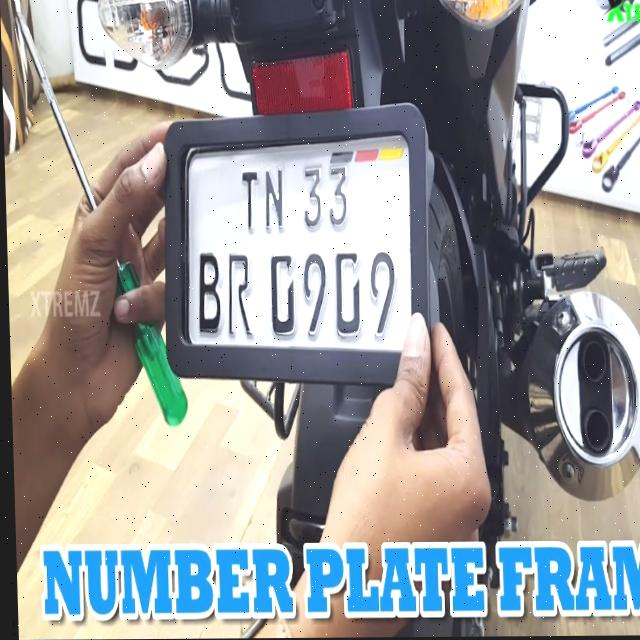plate: (156, 98, 434, 387)
